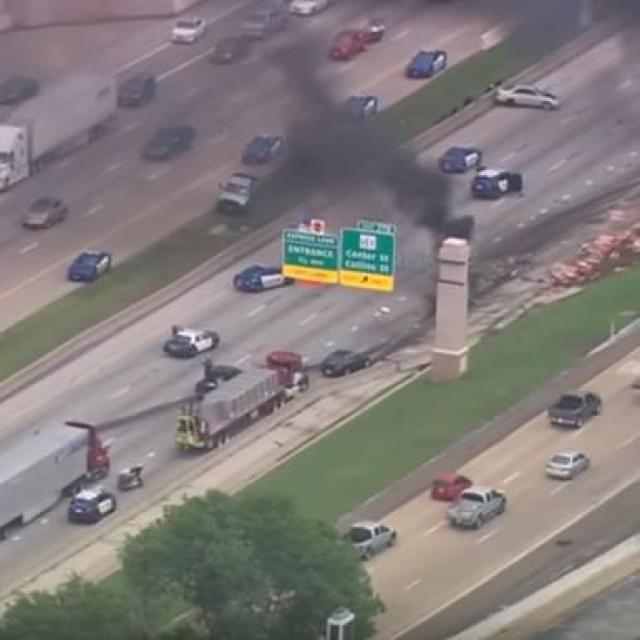traffic_incident: (408, 187, 486, 325)
